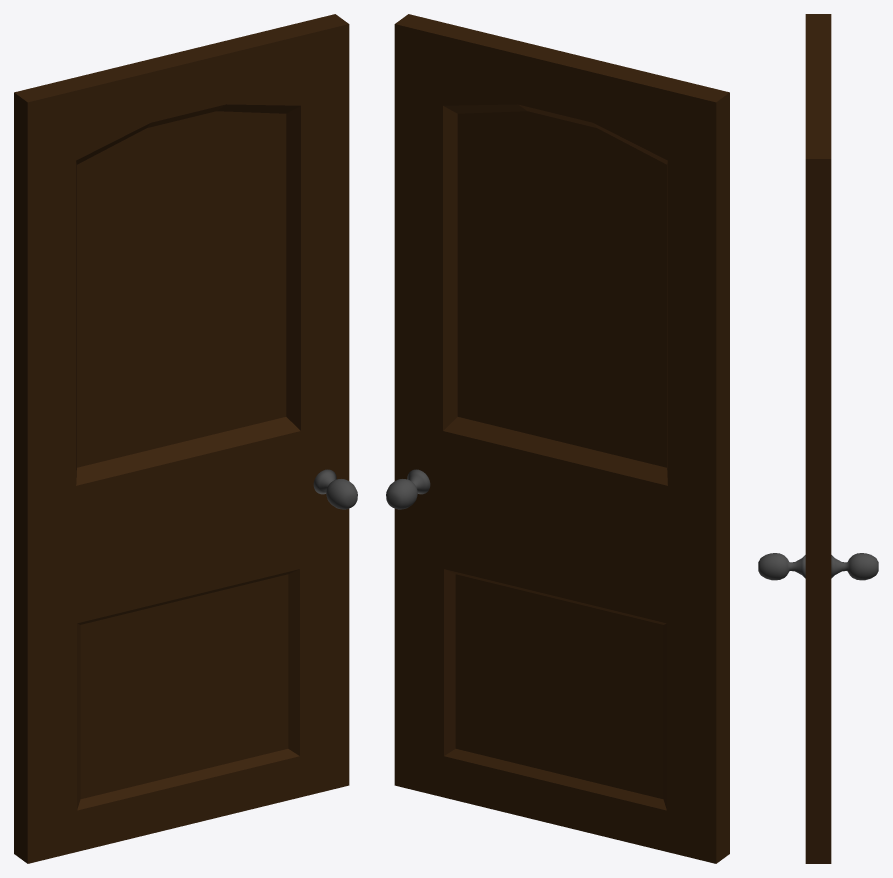
The model's file is CPI441_Fur_Door1_V2_O1.fbx.
3 views of the same model, side by side, from view 1: azimuth 30°, elevation 25°; view 2: azimuth 150°, elevation 25°; view 3: azimuth 270°, elevation 25° (orthographic). The views are drawn at different scales.
Parts seen in each view (by area): view 1: Circle; view 2: Circle; view 3: Circle.
Part boxes in pixels (box(x1,y1,x2,y2)): Circle: box(14, 14, 357, 863); Circle: box(386, 14, 729, 863); Circle: box(758, 14, 878, 863).
Size of the model in its own units: 440 by 997 by 154.
